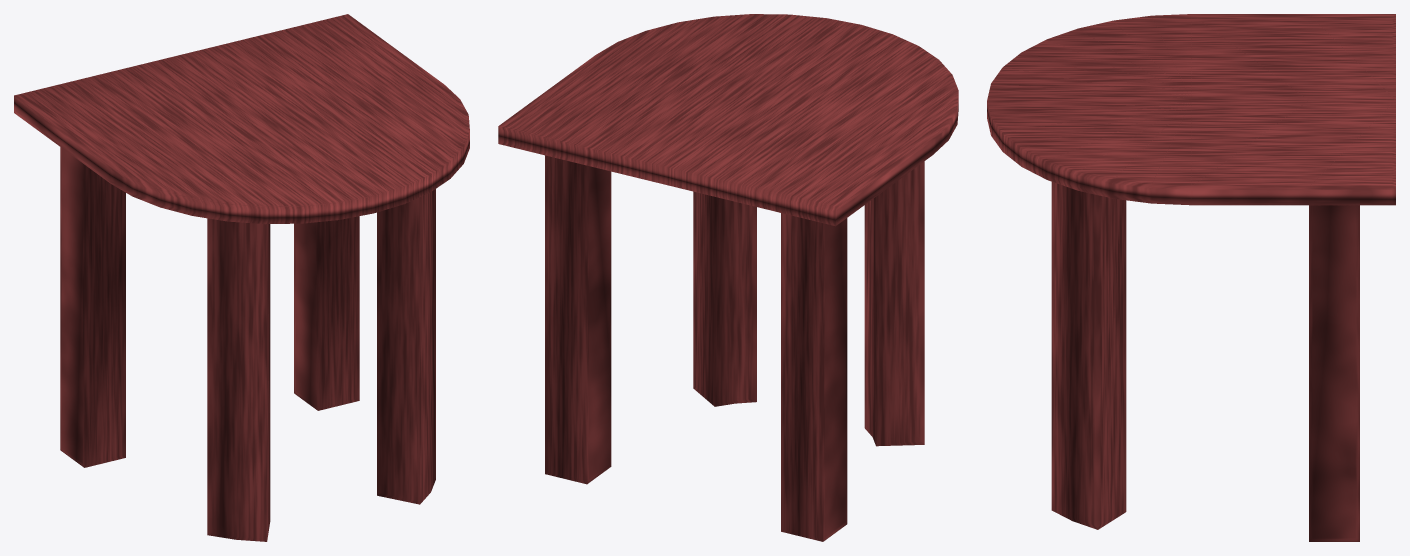
The model's file is Table.fbx.
The picture shows the model from 3 angles, left to right: view 1: azimuth 30°, elevation 25°; view 2: azimuth 150°, elevation 25°; view 3: azimuth 270°, elevation 25°; orthographic projection. The views are drawn at different scales.
Parts seen in each view (by area): view 1: Table_LP; view 2: Table_LP; view 3: Table_LP.
Boxes of the visible parts, x1=… form: Table_LP: x1=14, y1=14, x2=469, y2=541; Table_LP: x1=498, y1=14, x2=958, y2=541; Table_LP: x1=987, y1=14, x2=1395, y2=541.
Bounding box in the file's own units: 1 × 1 × 1.
